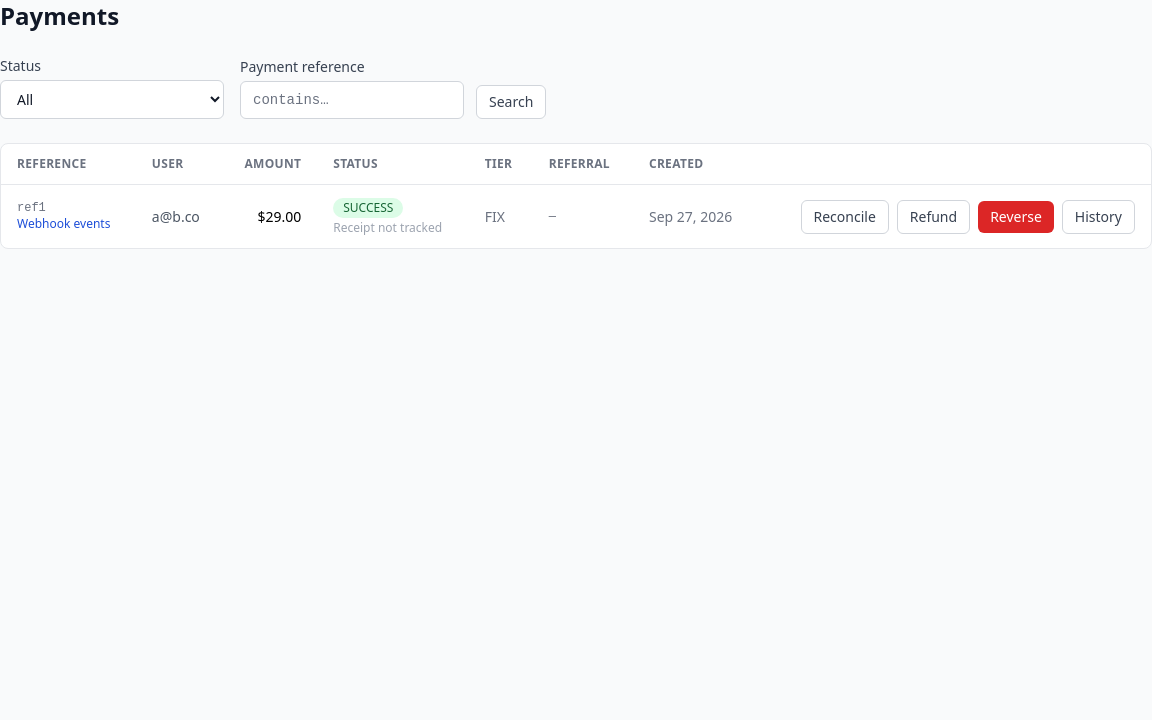
it: AdminPayments — webhook history (G3) › shows the payment's events with how long each took
Click the button "History" at (1098, 216), box x1=1062 y1=200 x2=1135 y2=234
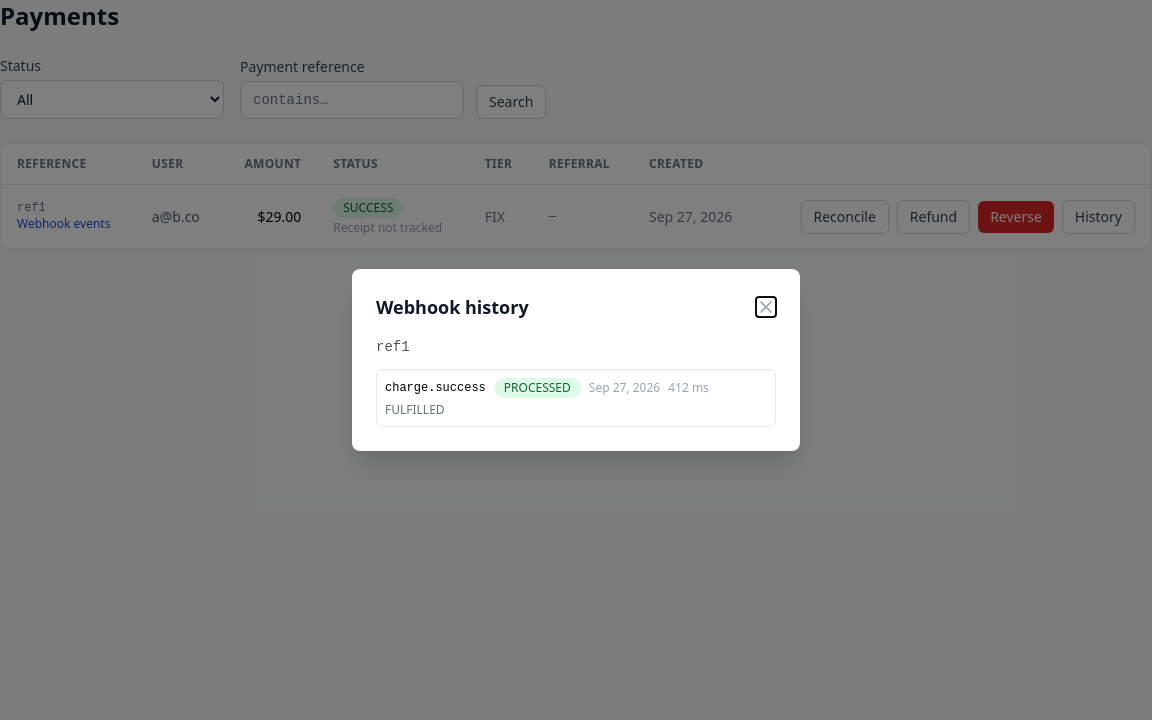
expect the text "charge.success" is shown: met, box x1=385 y1=380 x2=486 y2=396
expect the text "412 ms" is shown: met, box x1=668 y1=380 x2=709 y2=396
